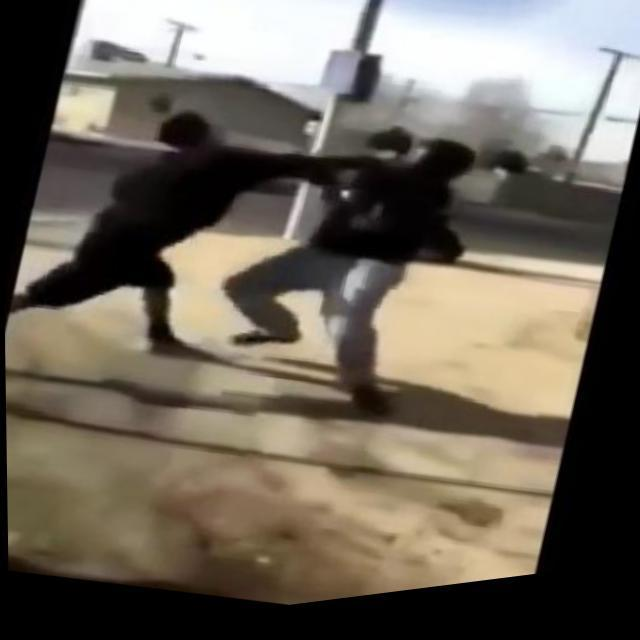fight: (2, 51, 496, 468)
